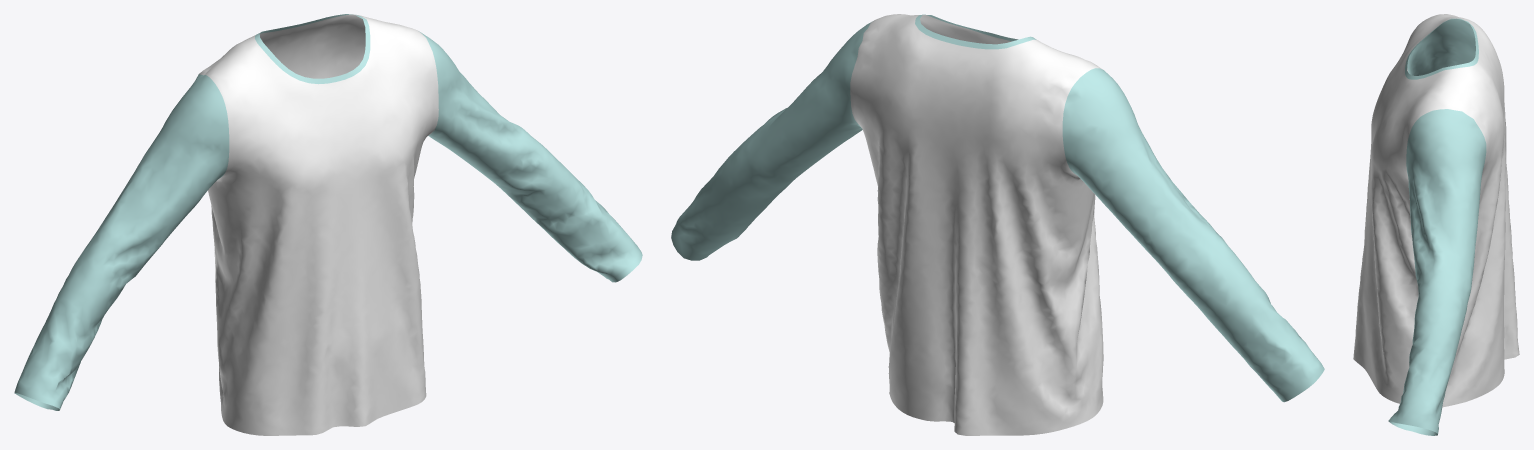
File: fsleeves.glb
3 renders of one model, left to right at view 1: azimuth 30°, elevation 25°; view 2: azimuth 150°, elevation 25°; view 3: azimuth 270°, elevation 25°, orthographic. The views are drawn at different scales.
Parts seen in each view (by area): view 1: front, rslvees, lslvees, back, neck; view 2: back, rslvees, lslvees, front, neck; view 3: lslvees, front, back, rslvees, neck, rborder.
Boxes of the visible parts, x1,y1,x2,y2 form: front: (208,19,438,435); rslvees: (16,74,229,404); lslvees: (419,31,639,278); back: (199,14,404,422); neck: (254,14,370,84); back: (850,15,1087,435); rslvees: (1062,68,1321,397); lslvees: (673,21,872,257); front: (871,14,1103,420); neck: (915,14,1036,49); lslvees: (1392,109,1486,430); front: (1353,14,1452,403); back: (1442,15,1519,407); rslvees: (1407,18,1475,75); neck: (1405,18,1478,79); rborder: (1388,417,1438,435).
Bounding box in the file's own units: 182 × 104 × 47.53.
